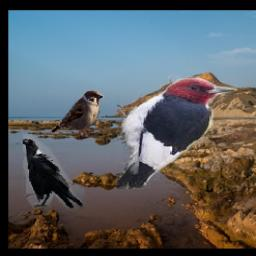Crow: (23, 134, 85, 210)
Sparrow: (51, 89, 104, 140)
Woodpecker: (117, 77, 237, 190)
